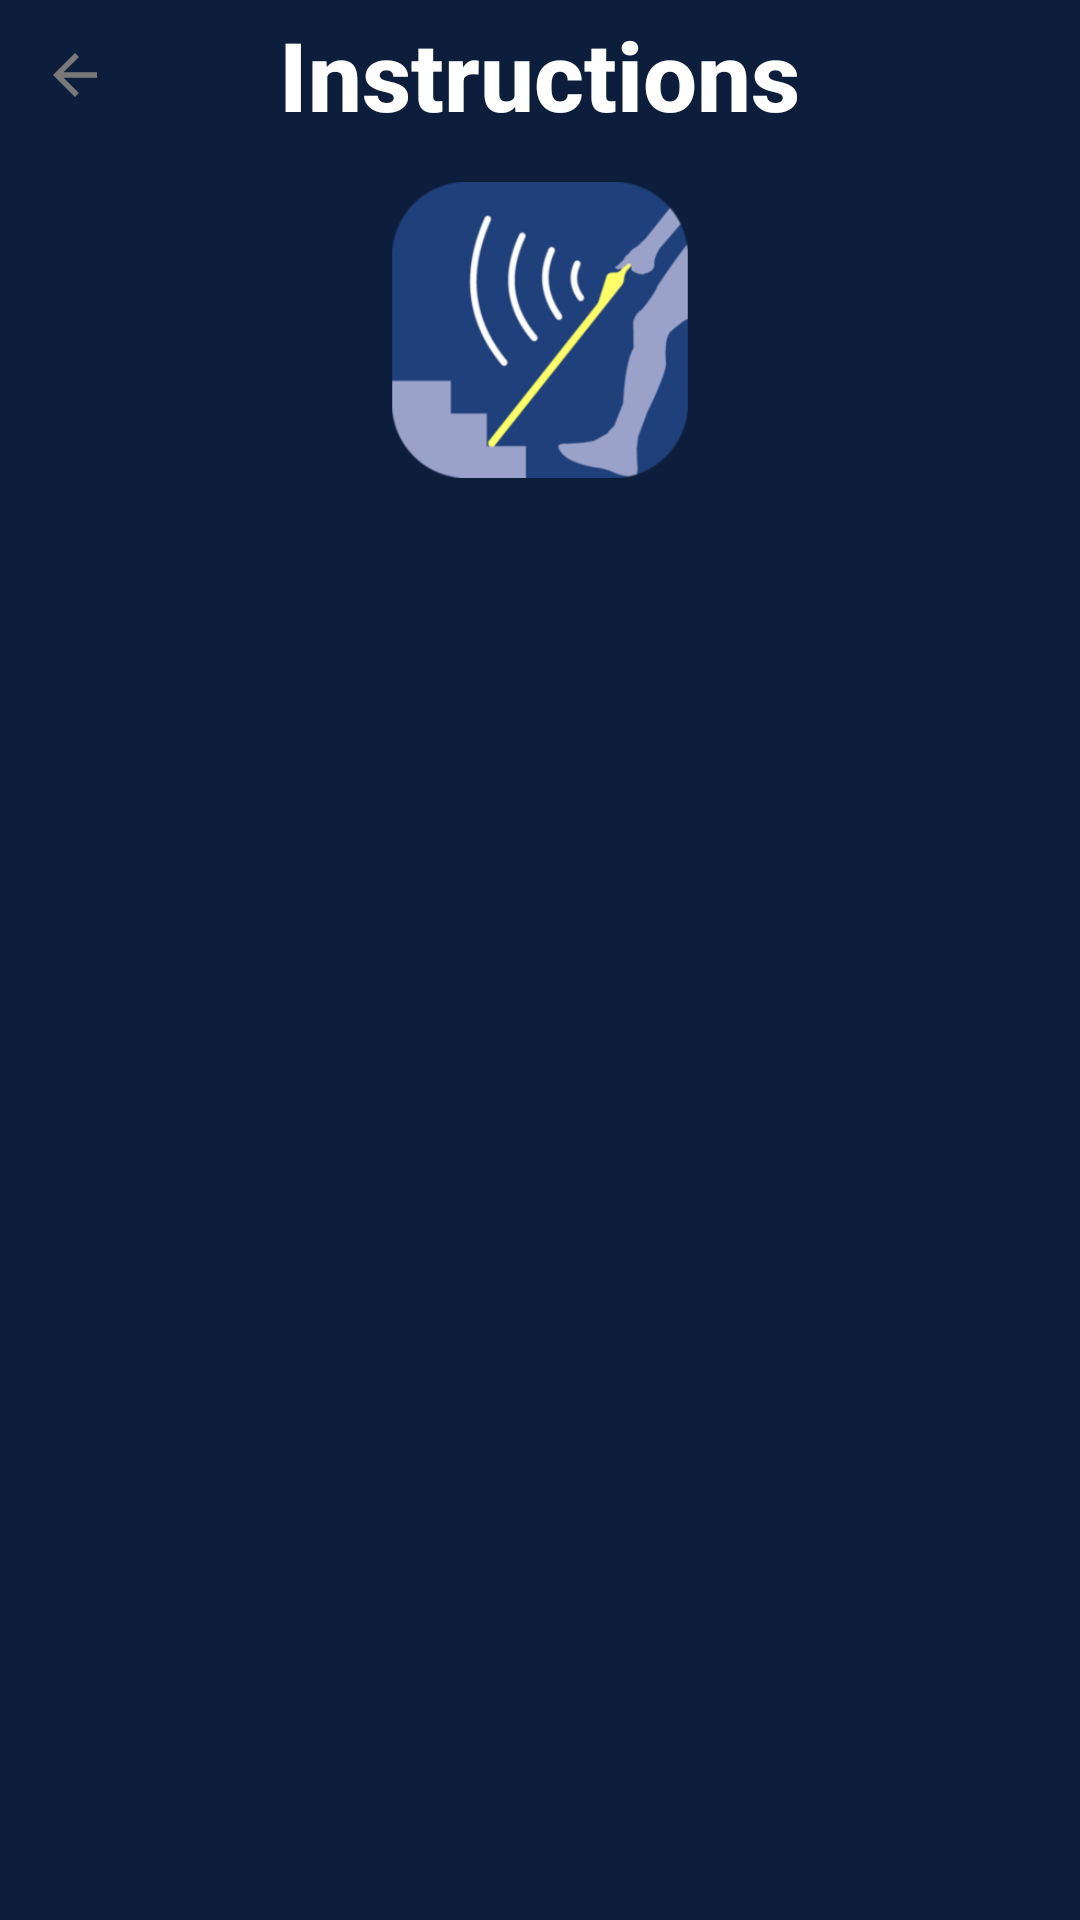

Icon click points for this 1080px x 1920px phone screenshot, format (x,y):
arrow back: (75,75)
